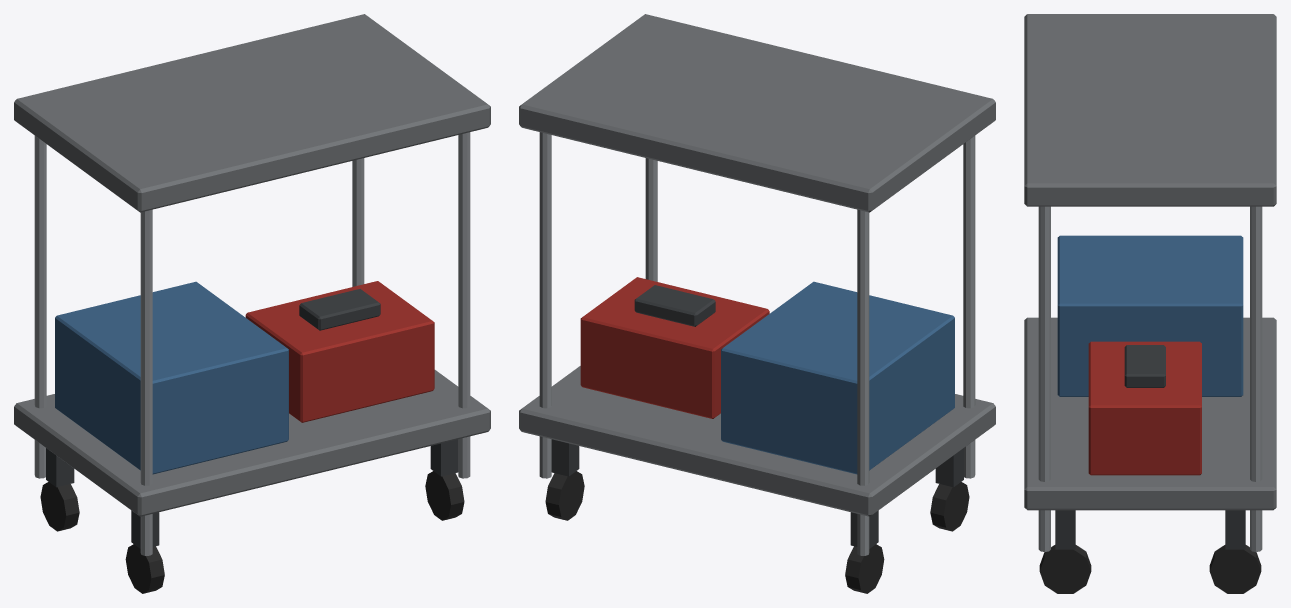
The model's file is prop_it_trolley.glb.
The picture shows the model from 3 angles, left to right: view 1: azimuth 30°, elevation 25°; view 2: azimuth 150°, elevation 25°; view 3: azimuth 270°, elevation 25°; orthographic projection.
Parts seen in each view (by area): view 1: Trolley; view 2: Trolley; view 3: Trolley.
Part boxes in pixels (box(x1,y1,x2,y2)): Trolley: box(14, 14, 490, 593); Trolley: box(519, 14, 995, 593); Trolley: box(1024, 14, 1276, 593).
Size of what is drawn, in the model's own units: 0.79 by 0.8976 by 0.49.
